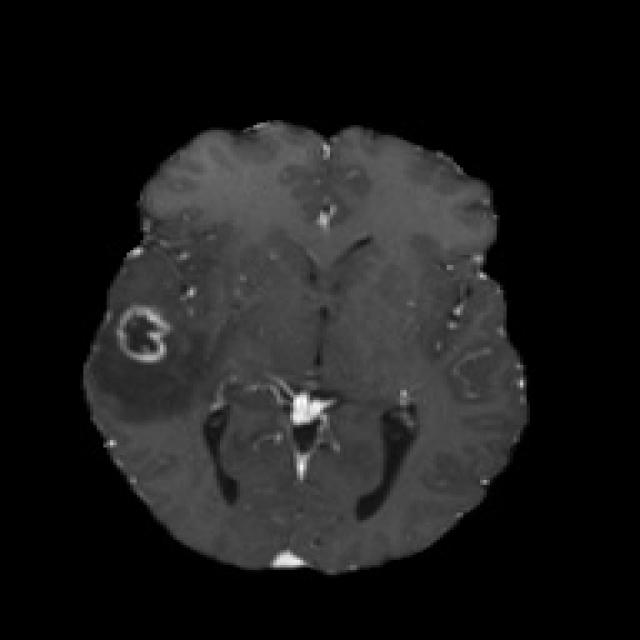positive: (113, 305, 170, 363)
